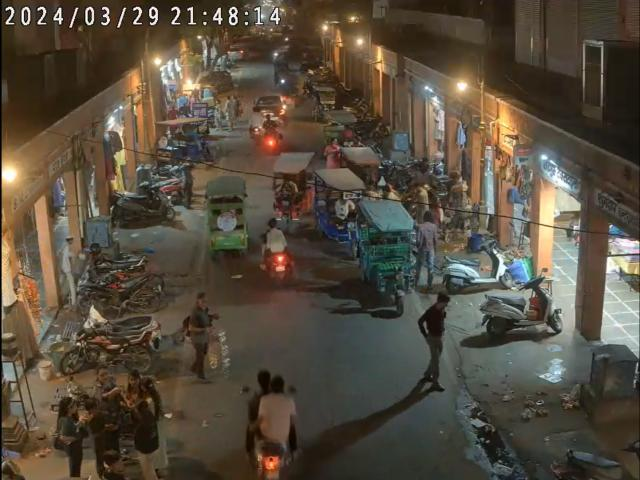auto: (355, 202, 415, 312), (312, 168, 363, 254), (203, 176, 250, 258), (270, 151, 320, 228)
motorbike: (60, 322, 154, 378), (68, 266, 160, 312)
no_helmet: (270, 374, 286, 393), (258, 369, 273, 386), (268, 218, 278, 229)
person: (418, 287, 451, 396), (183, 289, 220, 381), (56, 392, 88, 478), (132, 400, 161, 480), (84, 396, 111, 480), (418, 213, 438, 290)
scooty: (479, 271, 566, 334), (440, 239, 512, 290), (114, 180, 174, 222)
scooty-rider: (248, 373, 301, 480), (84, 308, 162, 337), (260, 219, 294, 285)
